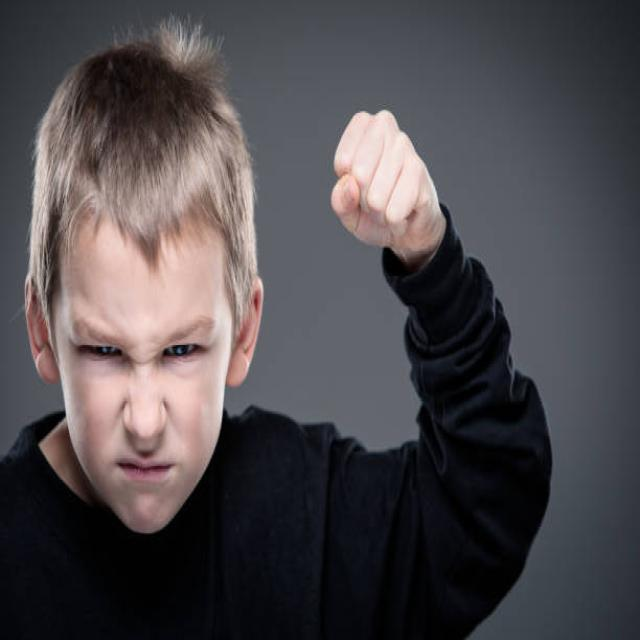fight: (20, 28, 487, 640)
